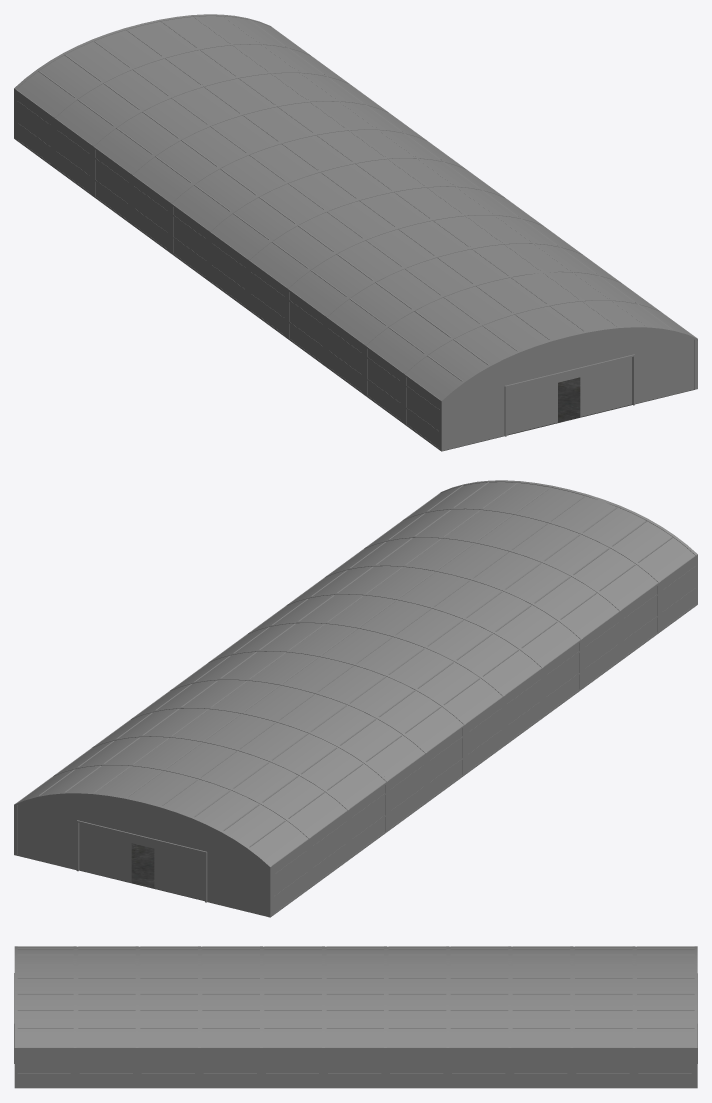
The model's file is warehouse.access-v3.lod0.glb.
3 renders of one model, top to bottom at view 1: azimuth 30°, elevation 25°; view 2: azimuth 150°, elevation 25°; view 3: azimuth 270°, elevation 25°, orthographic. The views are drawn at different scales.
Visible parts, largest first — view 1: NurbsPath.005_Metal_0, NurbsPath.005_WetConcrete_0; view 2: NurbsPath.005_Metal_0, NurbsPath.005_WetConcrete_0; view 3: NurbsPath.005_Metal_0.
Part boxes in pixels (x1,y1,x2,y2): NurbsPath.005_Metal_0: [14, 14, 697, 451]; NurbsPath.005_WetConcrete_0: [444, 377, 694, 450]; NurbsPath.005_Metal_0: [14, 480, 697, 917]; NurbsPath.005_WetConcrete_0: [79, 843, 204, 900]; NurbsPath.005_Metal_0: [14, 946, 697, 1088].
Bounding box in the file's own units: 16 × 5.02 × 46.27.
3 materials, 1 textured.
